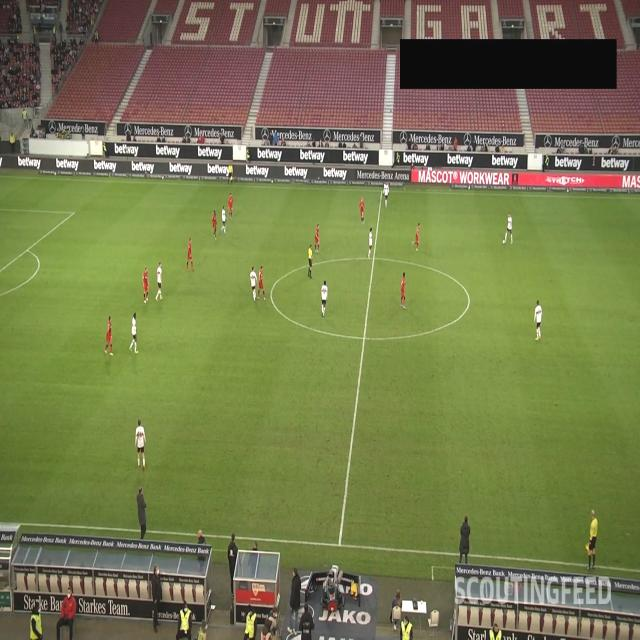ball: (502, 240, 506, 246)
f_player: (585, 512, 599, 574), (134, 418, 148, 472), (130, 311, 140, 355), (254, 264, 266, 300), (106, 312, 115, 358), (535, 301, 545, 339), (156, 264, 166, 302), (318, 282, 328, 316), (186, 240, 196, 274), (504, 214, 514, 246), (250, 266, 258, 304), (312, 224, 322, 254), (141, 267, 149, 303), (380, 181, 390, 208), (401, 274, 408, 311), (413, 222, 421, 252), (210, 212, 218, 240), (221, 206, 229, 234), (359, 198, 367, 222), (368, 228, 374, 258), (228, 192, 235, 217)
umpire: (585, 511, 601, 569), (306, 244, 315, 278), (226, 160, 235, 186)
